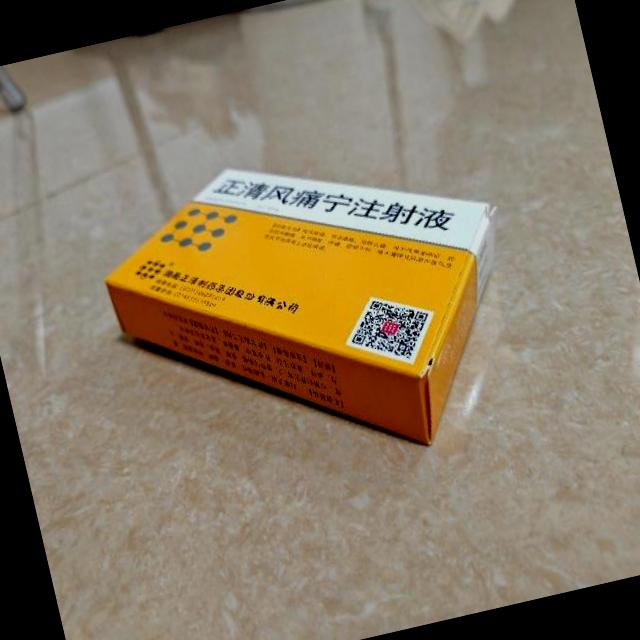box: (86, 112, 539, 506)
